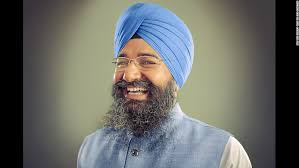helmet: (99, 2, 205, 135)
